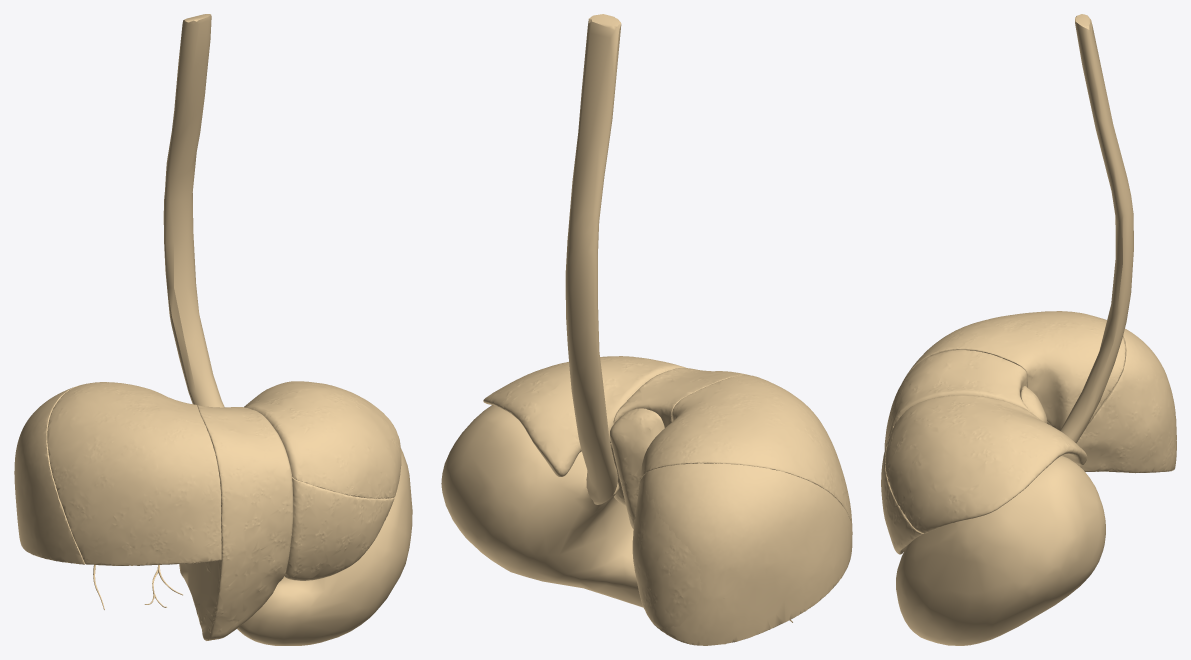
File: digestif-thorax.hi.glb
3 views of the same model, side by side, from view 1: azimuth 30°, elevation 25°; view 2: azimuth 150°, elevation 25°; view 3: azimuth 270°, elevation 25° (orthographic). The views are drawn at different scales.
Parts seen in each view (by area): view 1: FJ2824, FJ2820, FJ2818, FJ2563, FJ2564, FJ2819, FJ1858; view 2: FJ1858, FJ2564, FJ2563, FJ2824, FJ2818, FJ2823, FJ2816, FJ2820; view 3: FJ2564, FJ2818, FJ2824, FJ2563, FJ2823, FJ2820, FJ1858, FJ2819, FJ2816.
Boxes of the visible parts, box(x1,y1,x2,y2) form: FJ2824: box(47, 382, 221, 565); FJ2820: box(179, 405, 293, 640); FJ2818: box(244, 381, 401, 498); FJ2563: box(163, 14, 224, 407); FJ2564: box(237, 448, 412, 645); FJ2819: box(284, 477, 394, 580); FJ1858: box(14, 385, 84, 564); FJ1858: box(641, 463, 852, 645); FJ2564: box(441, 405, 643, 607); FJ2563: box(565, 14, 621, 504); FJ2824: box(641, 375, 852, 527); FJ2818: box(483, 356, 685, 476); FJ2823: box(632, 474, 725, 629); FJ2816: box(610, 408, 664, 528); FJ2820: box(613, 368, 749, 427); FJ2564: box(896, 455, 1105, 645); FJ2818: box(885, 395, 1087, 533); FJ2824: box(902, 311, 1125, 430); FJ2563: box(1060, 14, 1133, 443); FJ2823: box(1076, 372, 1176, 473); FJ2820: box(884, 350, 1030, 450); FJ1858: box(1102, 318, 1175, 472); FJ2819: box(881, 425, 923, 554); FJ2816: box(1020, 386, 1047, 423).
Size of the model in its own units: 0.2206 by 0.3505 by 0.1591.
